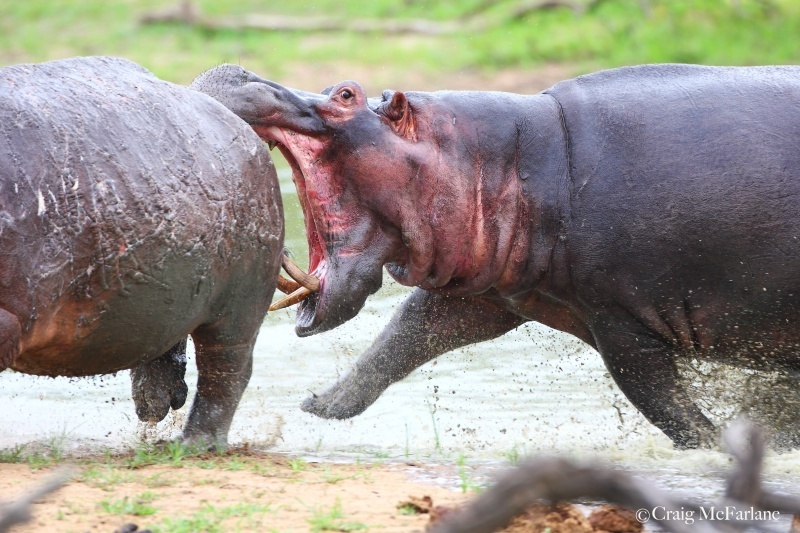hipopotamo: (204, 60, 799, 431), (1, 38, 283, 455)
